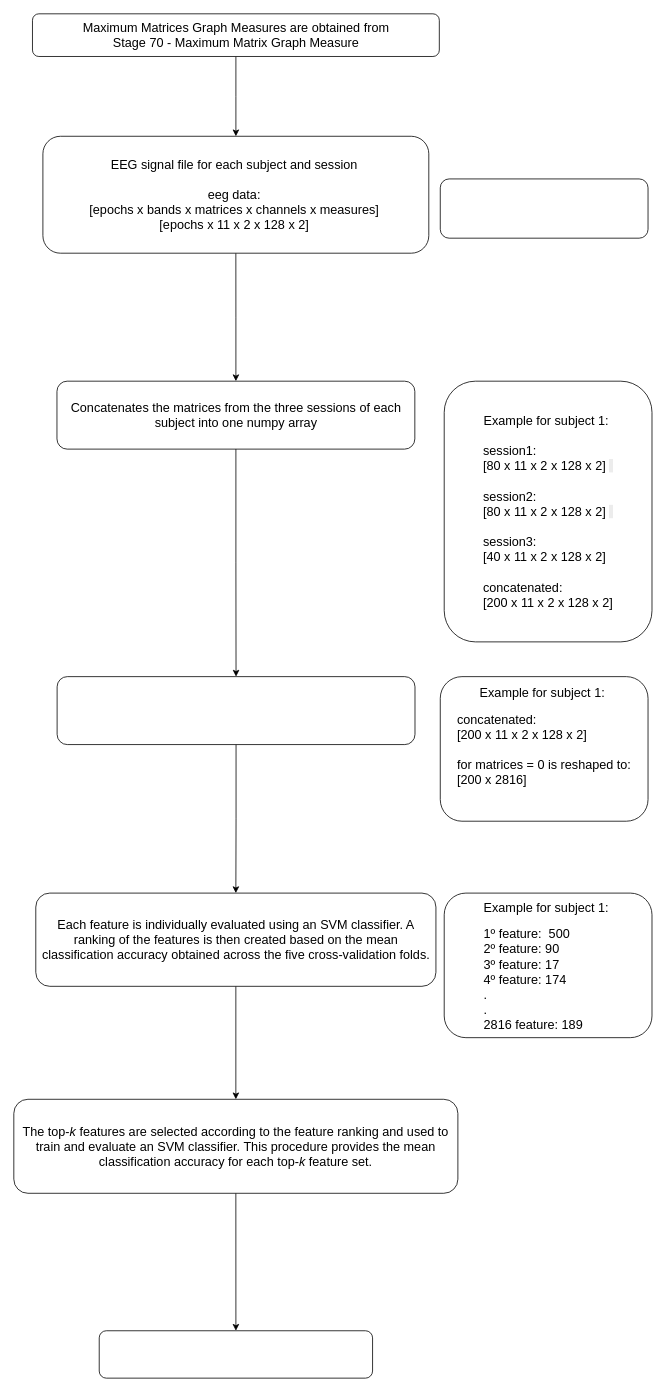
Image size: 666x1392. Some labels were removed from this diagram. The centre of each missing label's shape, as x and y in pixels:
"Each Maximum Matrix is reshaped to [epochs x features]" goes at [235,710].
"matrices = 0 stores to Max(0,1,2,3) matrices = 1 stores to Max(1,2,3)" goes at [543,208].
"Python dictionary with the results" goes at [235,1354].
